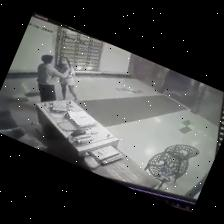person: (37, 55, 64, 102), (56, 58, 77, 102)
